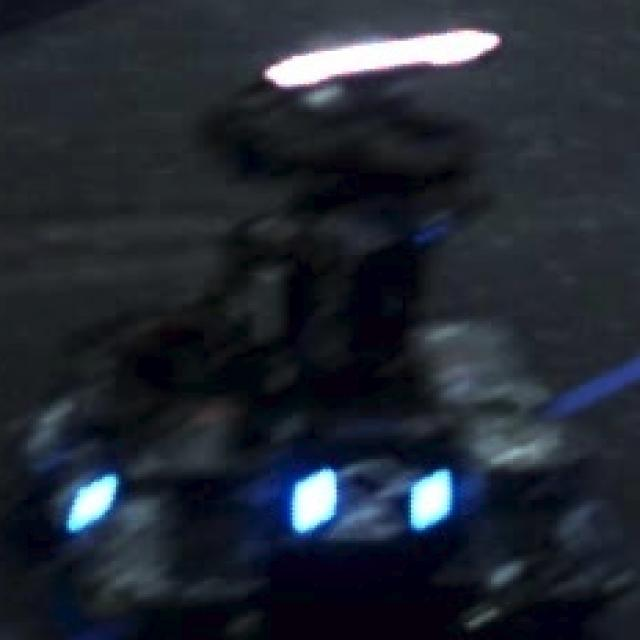Bs: (290, 462, 452, 530)
